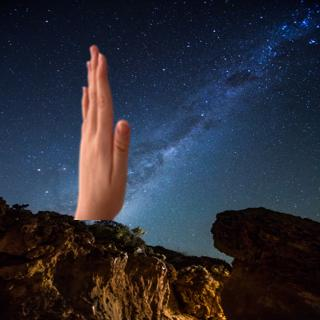Right: (64, 40, 141, 235)
